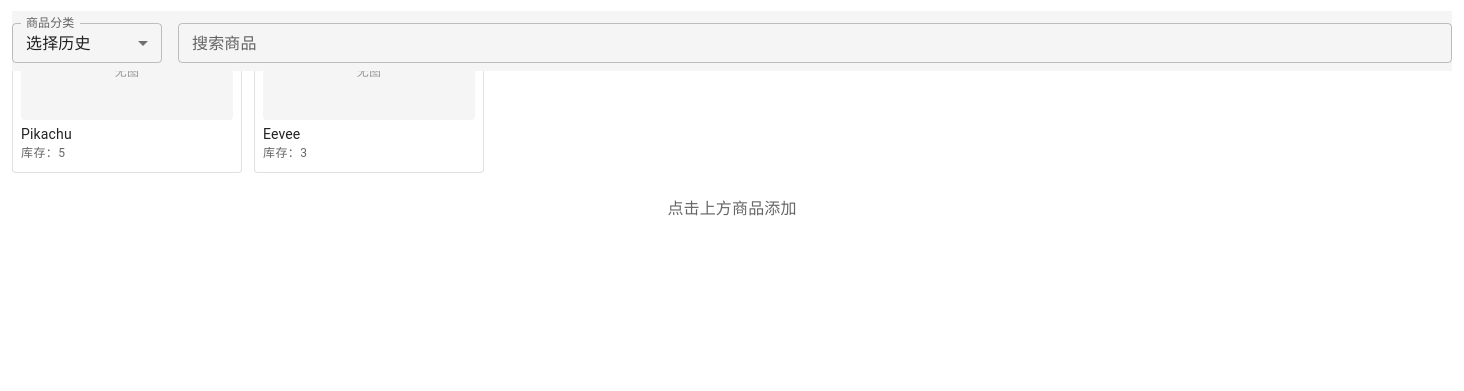
OrderDetailAddPanel › saves one line per picked product, then clears the list
The image size is (1464, 391).
Click the text "Pikachu" at [46, 134], box [21, 126, 72, 142]
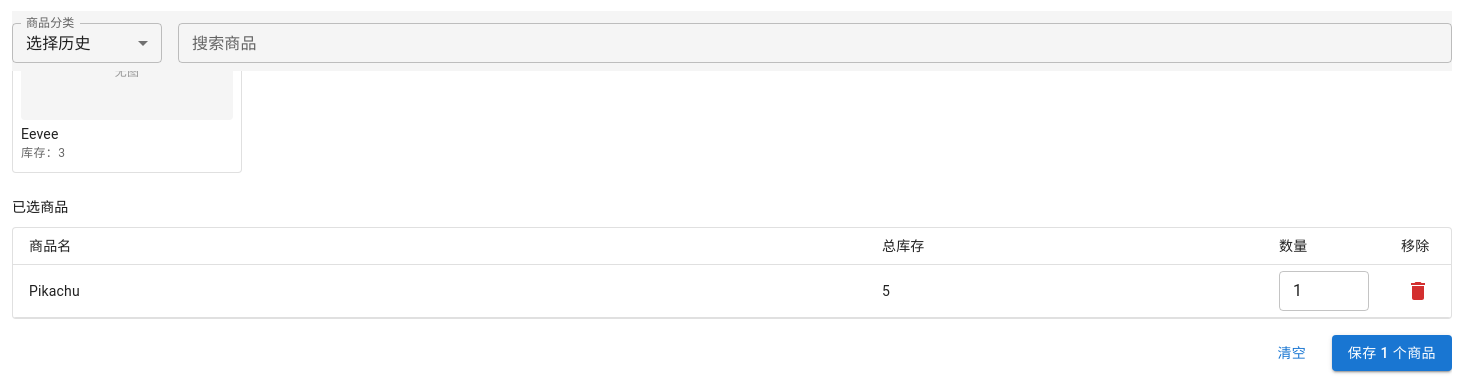
Click the text "Eevee" at [40, 134], box [21, 126, 58, 142]
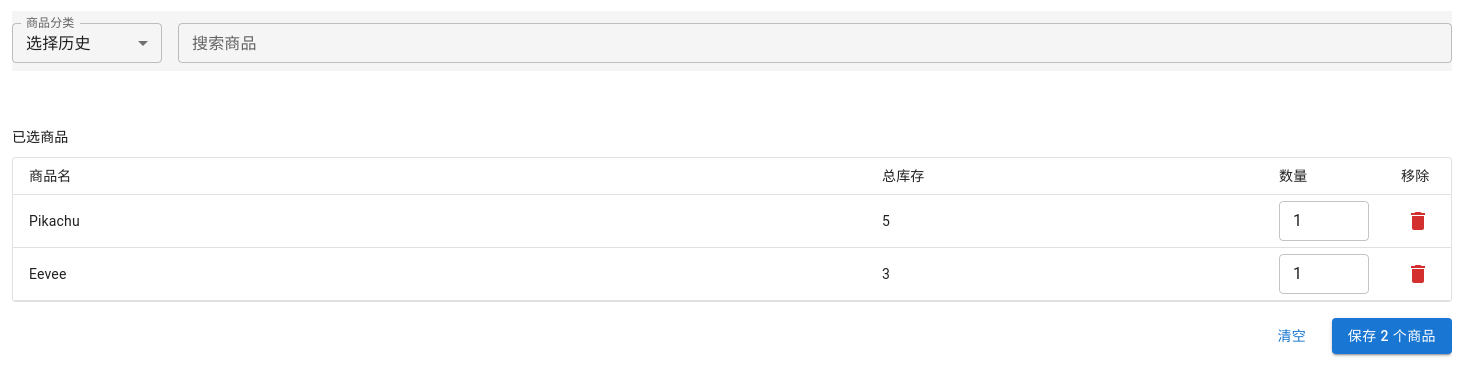
Replace the text in the number field named "Eevee 新增数量" with "2" at [1324, 274], box [1279, 254, 1369, 294]
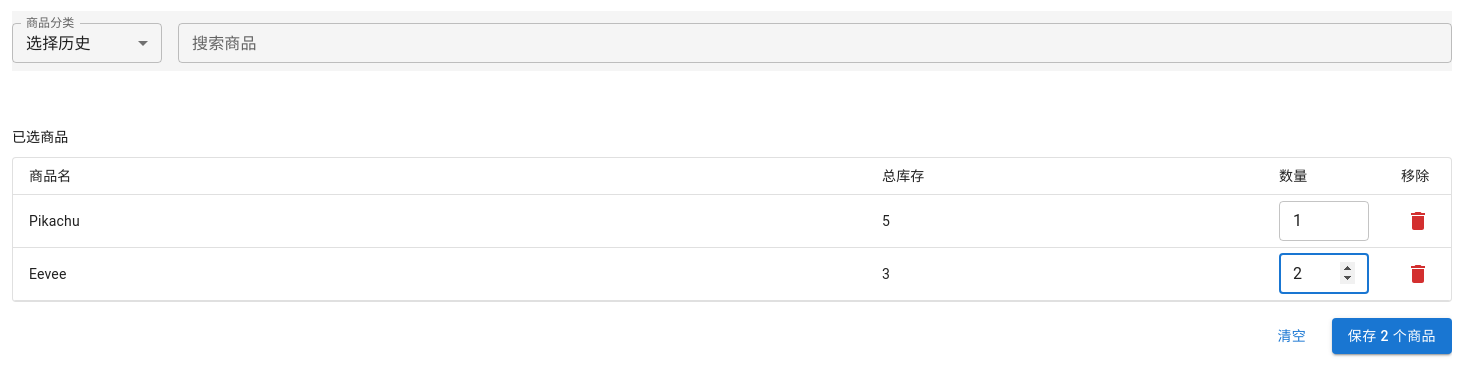
Click the button "保存 2 个商品" at [1392, 336], box [1332, 318, 1452, 354]
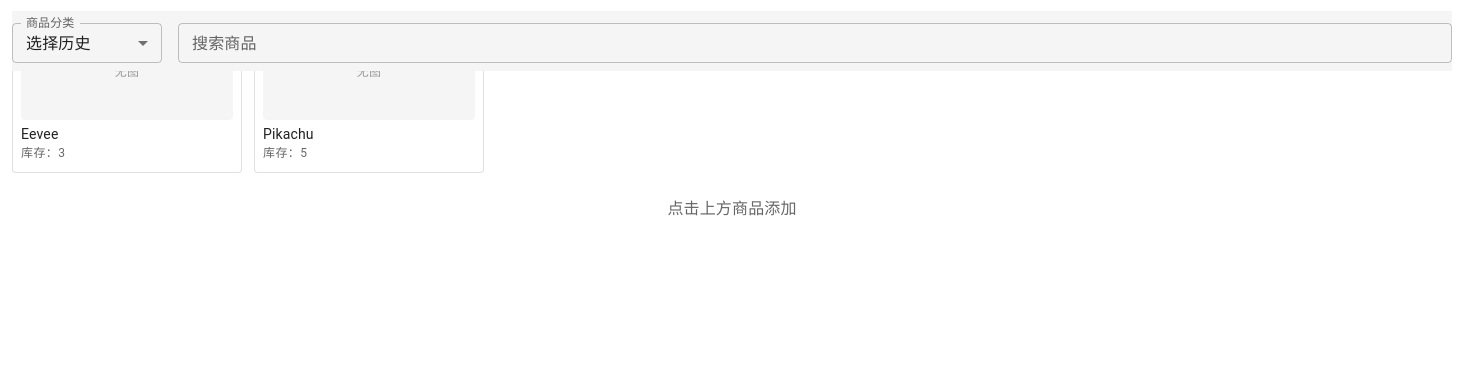
Check: the heading "已选商品" is gone
